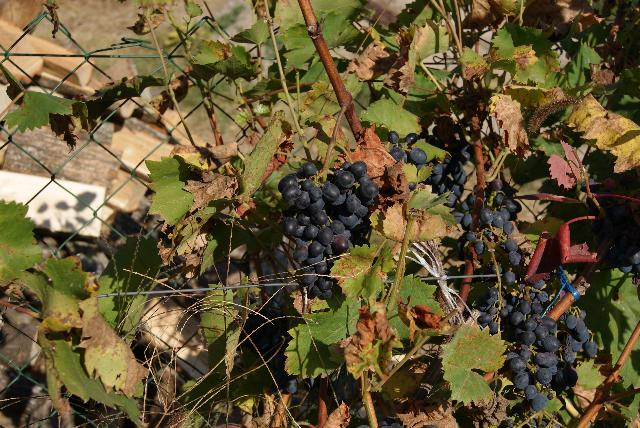grapes: (278, 161, 379, 299), (509, 291, 598, 411)
